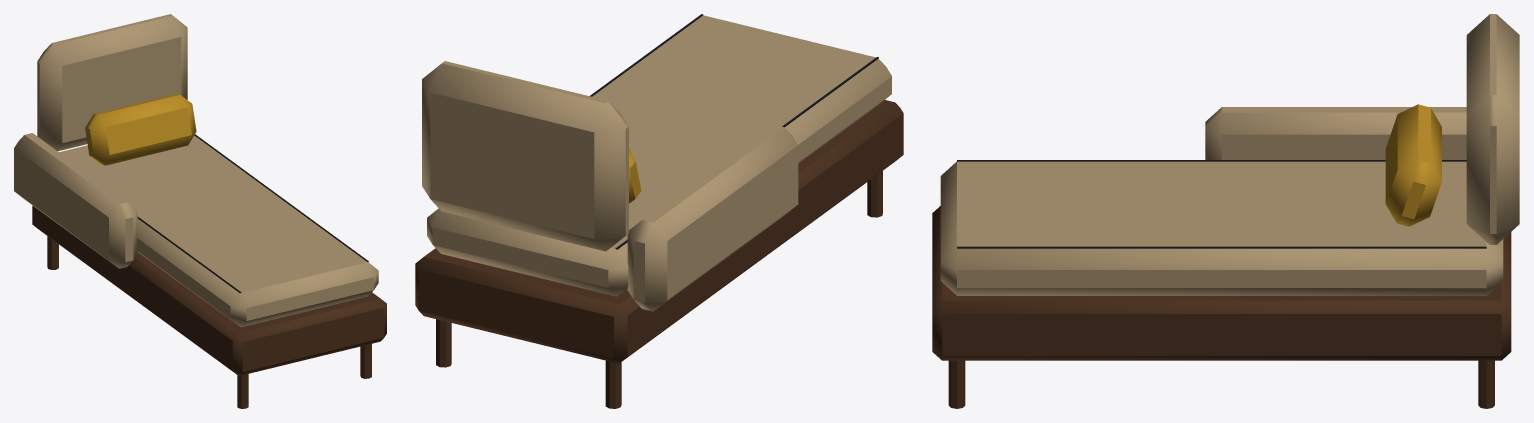
File: couch_chaise.glb
3 views of the same model, side by side, from view 1: azimuth 30°, elevation 25°; view 2: azimuth 150°, elevation 25°; view 3: azimuth 270°, elevation 25° (orthographic). The views are drawn at different scales.
Visible parts, largest first — view 1: couch_chaise; view 2: couch_chaise; view 3: couch_chaise.
Boxes of the visible parts, x1,y1,x2,y2 form: couch_chaise: (14, 14, 386, 408); couch_chaise: (415, 14, 903, 408); couch_chaise: (932, 14, 1519, 408).
Size of the model in its own units: 0.865 by 1.03 by 1.77.
